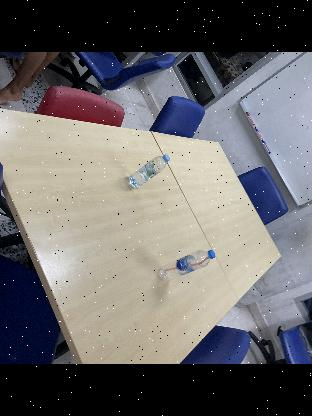Plastic Bottle: (156, 249, 214, 283), (126, 154, 170, 188)
